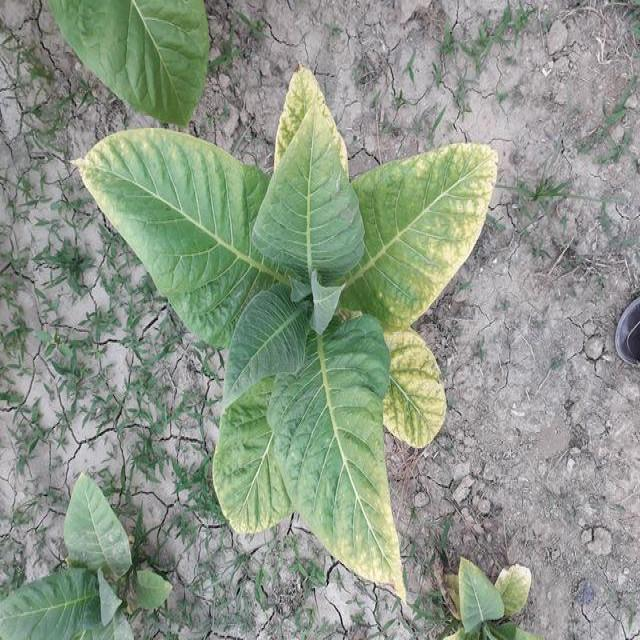crop: (72, 59, 496, 596)
